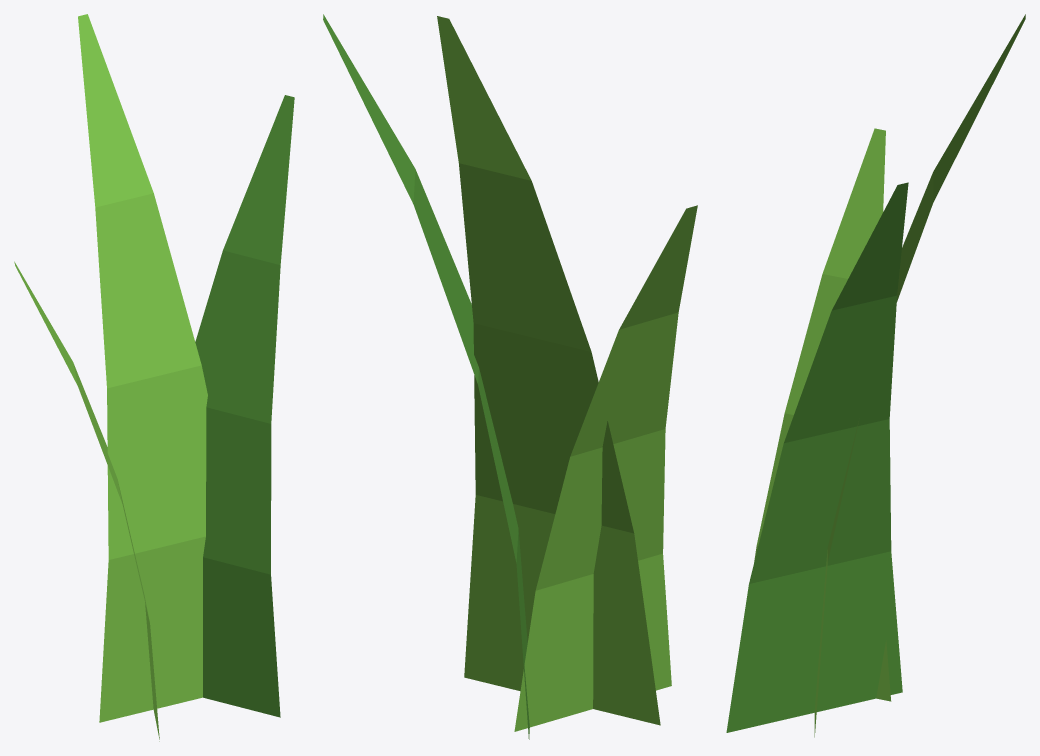
The model's file is grama-tres-pontas-v01.glb.
3 views of the same model, side by side, from view 1: azimuth 30°, elevation 25°; view 2: azimuth 150°, elevation 25°; view 3: azimuth 270°, elevation 25° (orthographic). The views are drawn at different scales.
Parts seen in each view (by area): view 1: Tufo; view 2: Tufo; view 3: Tufo.
Boxes of the visible parts, x1,y1,x2,y2 form: Tufo: (14, 14, 294, 741); Tufo: (323, 14, 697, 739); Tufo: (726, 14, 1025, 737).
Size of the model in its own units: 0.2354 by 0.48 by 0.1906.
